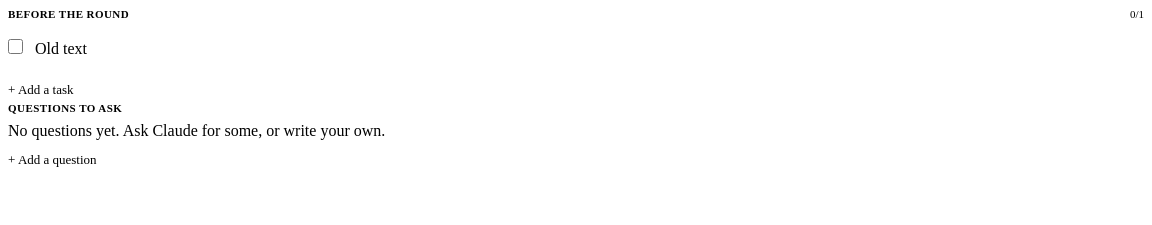
Scenario: PrepChecklist › restores the original when an edit is blanked
Click the button "Old text": x=61, y=48 [35, 36, 611, 62]
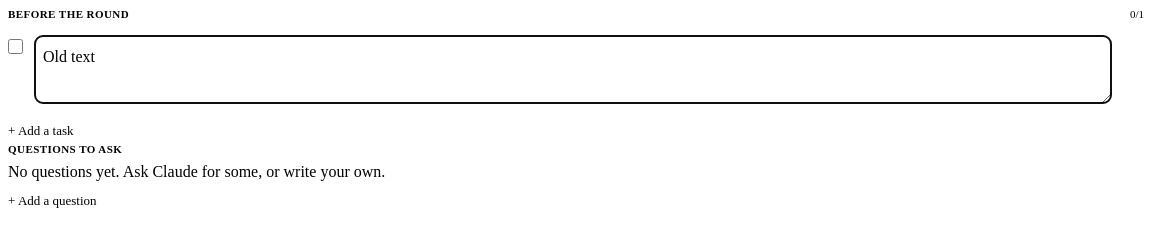
Clear the text box: x=573, y=70 [35, 36, 1111, 103]
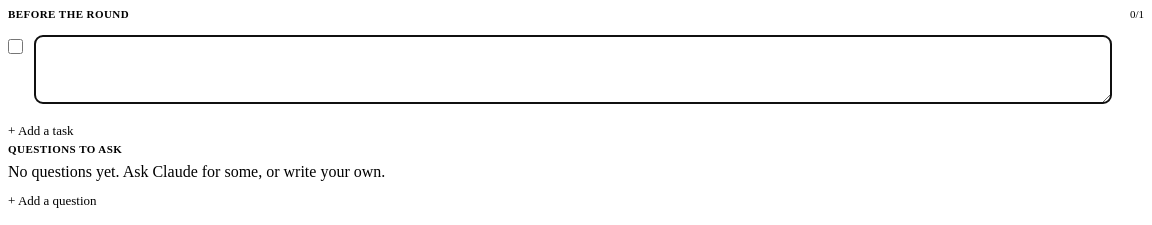
Press Tab
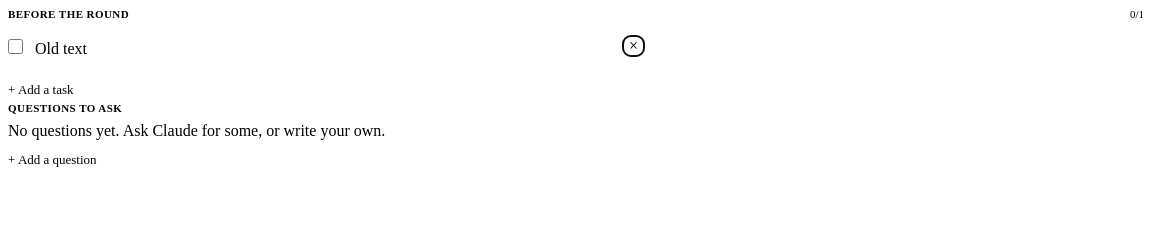
expect the button "Old text" is shown: met, box [35, 36, 611, 62]
